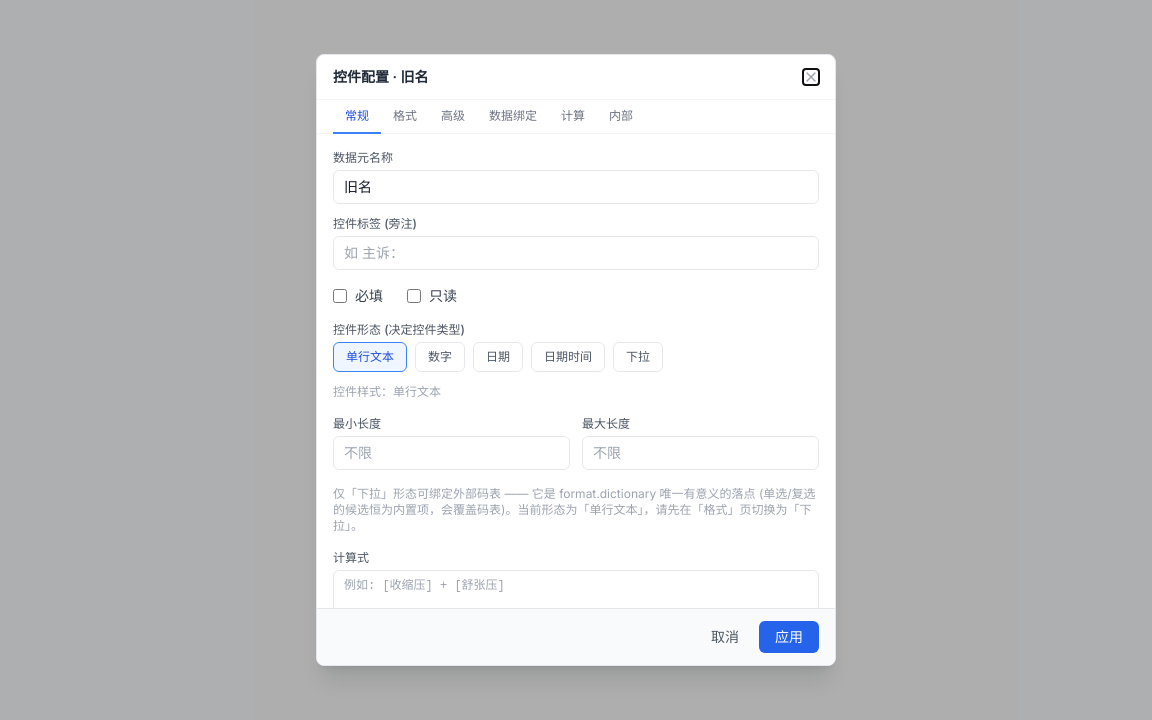
ControlInputDialog — 语义身份可编辑 (契约 §12.5) › 撞键提示: 别的控件已用该键 → 出现提示, 且 n 把自己算进去
The width and height of the screenshot is (1152, 720).
Click the tab "内部".
click(621, 117)  # box [597,100,645,134]
(page scrolled)
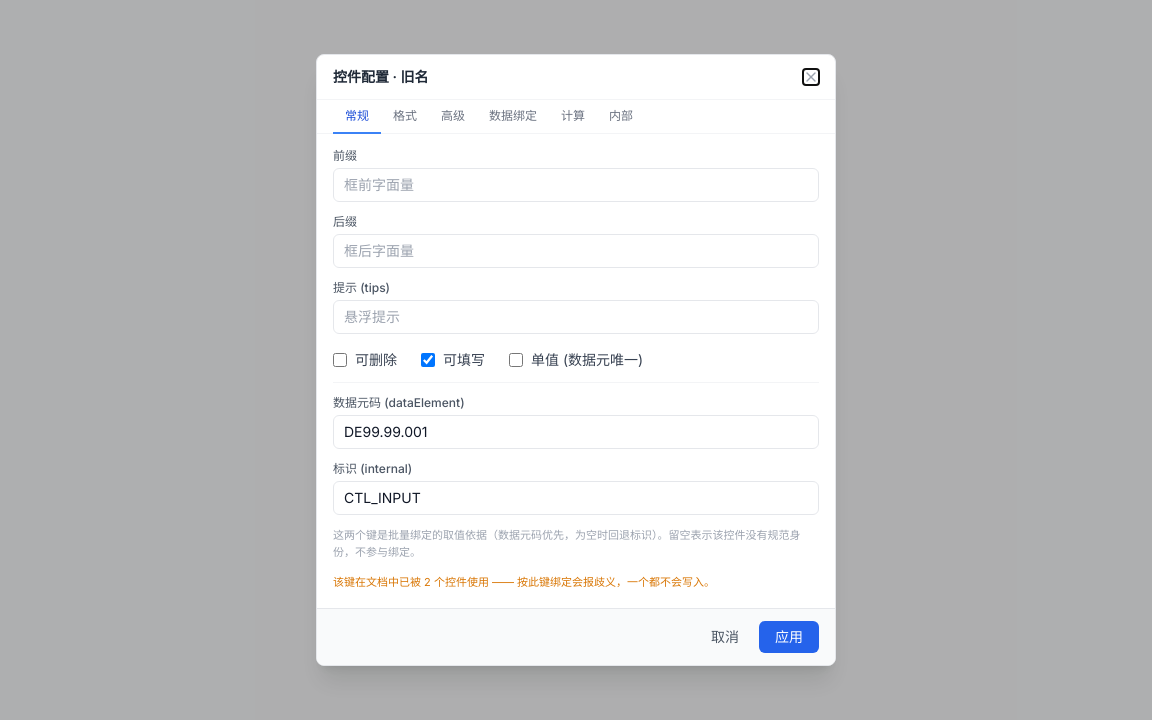
Result: the text "该键在文档中已被 2 个控件使用 —— 按此键绑定会报歧义，一个都不会写入。" is shown at [333,575,715,589]
